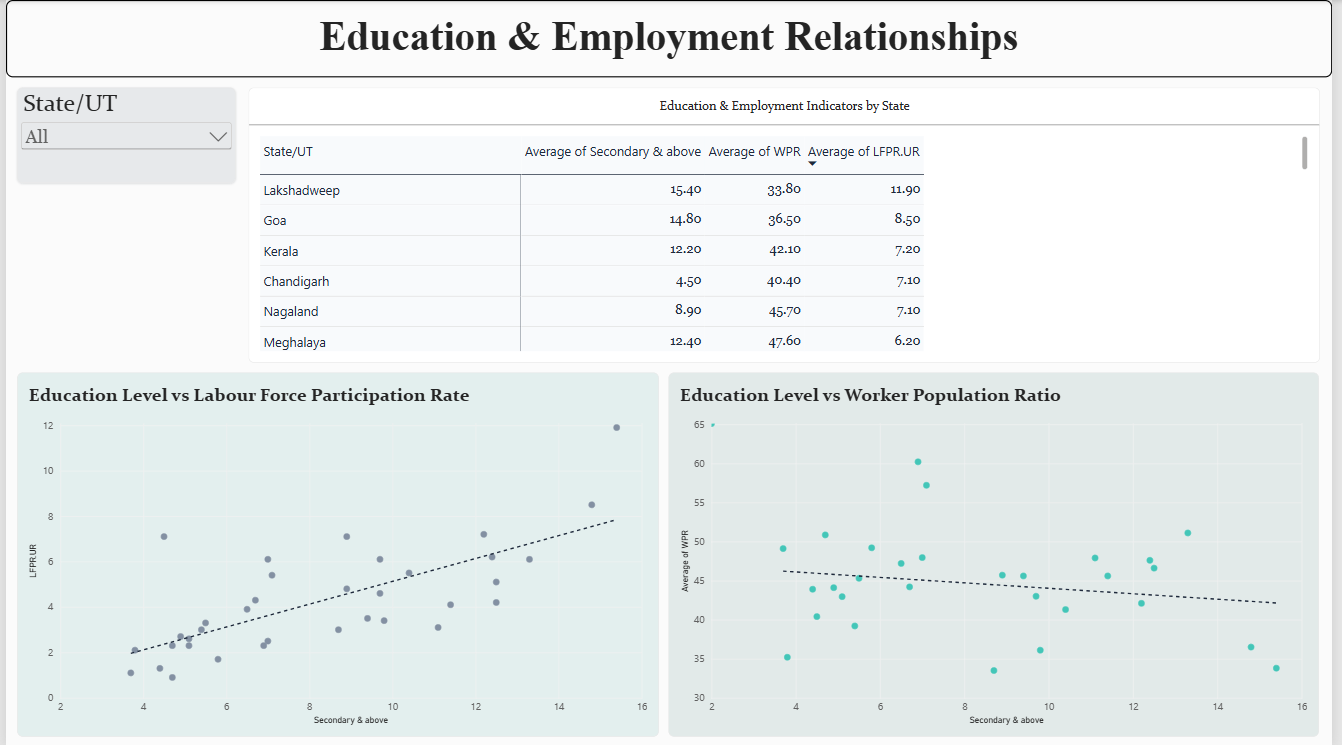

What the dashboard file says about the page in this screenshot:
{"tool":"powerbi","page":{"name":"Page 2","canvas":[1920,1080],"ordinal":1},"visuals":[{"type":"scatterChart","title":"Education Level vs Labour Force Participation Rate","fields":{"X":["education.Secondary & above"],"Y":["education.LFPR.UR"]},"box":[16.4,540,929.1,527.3],"z":0},{"type":"scatterChart","title":"Education Level vs Worker Population Ratio","fields":{"X":["education.Secondary & above"],"Y":["Avg(LFPR.WPR)"]},"box":[960,540,941.8,527.3],"z":1000},{"type":"slicer","fields":{"Values":["yearwise.State/UT"]},"box":[16.4,127.3,316.4,138.2],"z":2000},{"type":"textbox","box":[0,0,1920.1,112.2],"z":3000},{"type":"pivotTable","title":"Education & Employment Indicators by State","fields":{"Rows":["education.State/UT"],"Values":["Avg(education.Secondary & above)","Avg(LFPR.WPR)","Avg(education.LFPR.UR)"]},"box":[350.9,127.3,1550.9,398.2],"z":4000}]}

Visuals, with their boxes in screenshot pixels (x1, y1, x2, y2), scaled from the page's 1920x1080 canvas onto the 1342x745 screenshot:
"Education Level vs Labour Force Participation Rate" scatterChart: {"left": 11, "top": 372, "right": 661, "bottom": 736}
"Education Level vs Worker Population Ratio" scatterChart: {"left": 671, "top": 372, "right": 1329, "bottom": 736}
slicer - yearwise.State/UT: {"left": 11, "top": 88, "right": 233, "bottom": 183}
textbox: {"left": 0, "top": 0, "right": 1341, "bottom": 77}
"Education & Employment Indicators by State" pivotTable: {"left": 245, "top": 88, "right": 1329, "bottom": 362}
